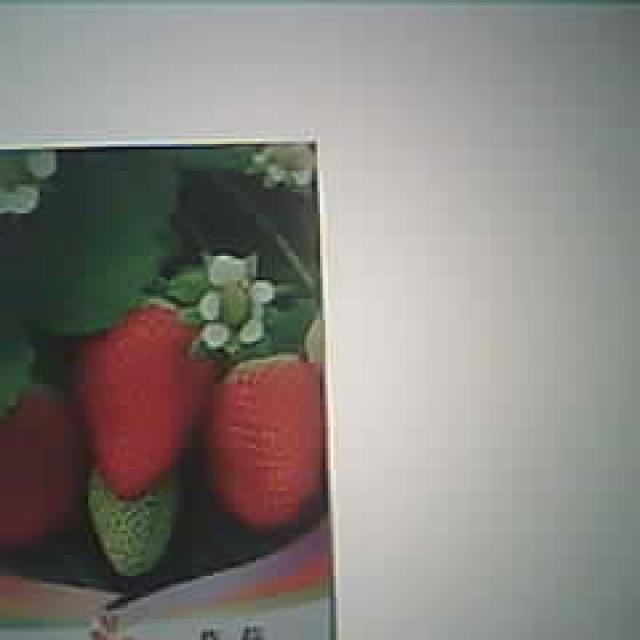ripe: (80, 297, 208, 496), (212, 354, 328, 526)
